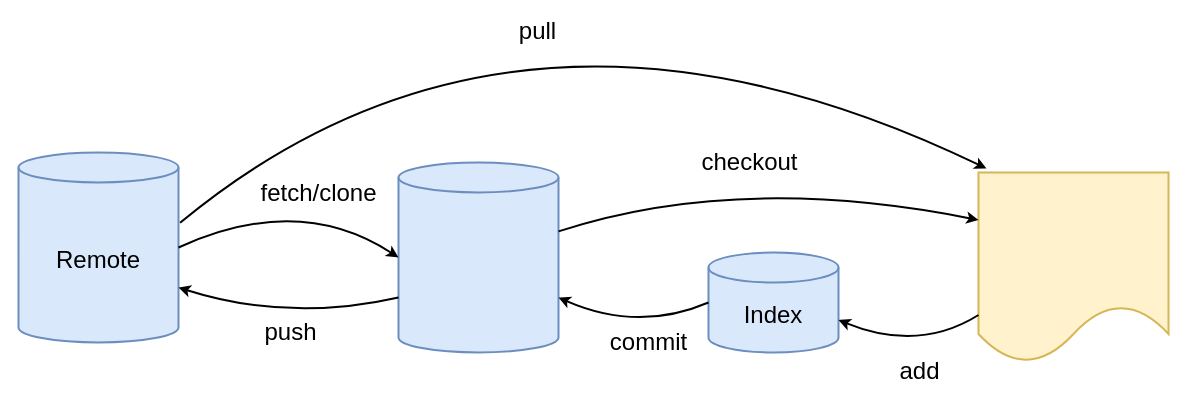
The diagram is 1186 pixels wide and 403 high, and some of its shapes have lost their labels. Here are the shapes that lost their labels. From the top down, the centre of each, then its label:
At (x=478, y=257): "Repository".
At (x=1073, y=267): "workspace".
